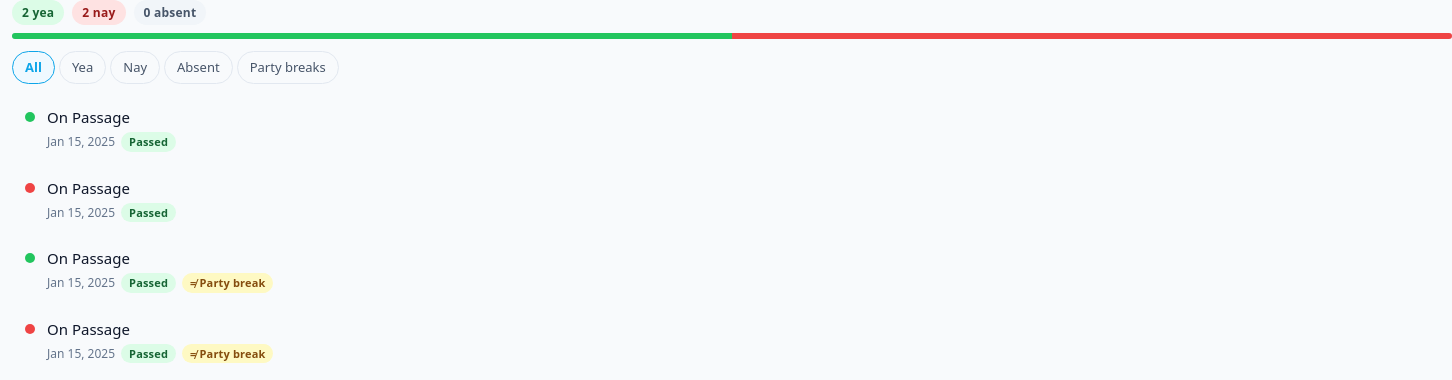
it: VoteList — filter logic › shows an empty state message when no votes match the filter
Click the tab "Absent".
click(198, 68)  # box [164,51,233,84]
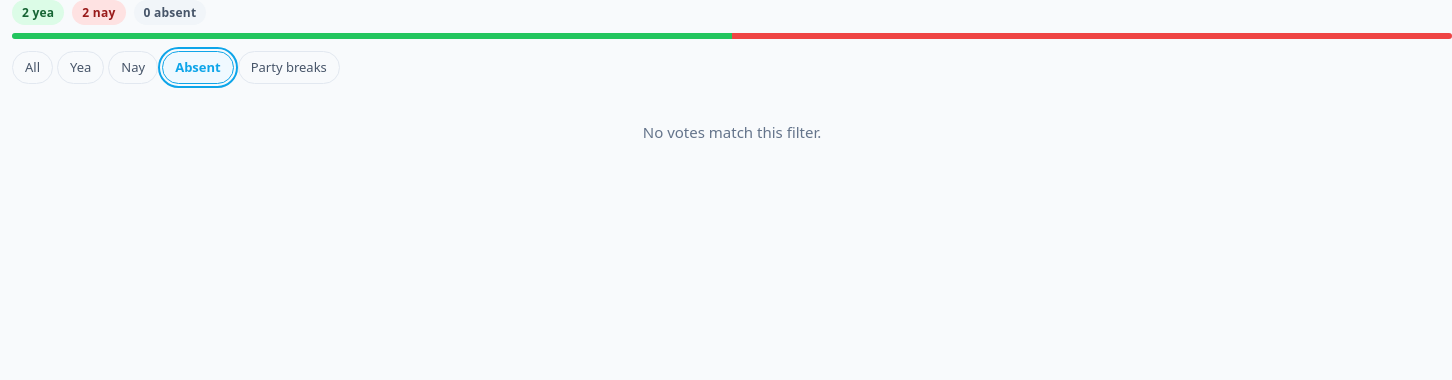
Expected: the list item "No votes match this filter." is shown, [643,122,821,142]
